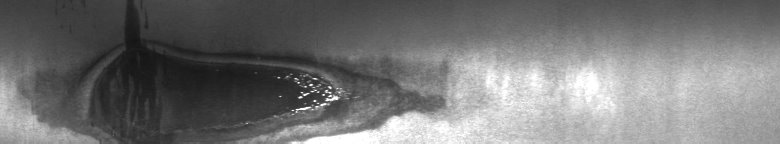ke: (64, 53, 432, 136)
